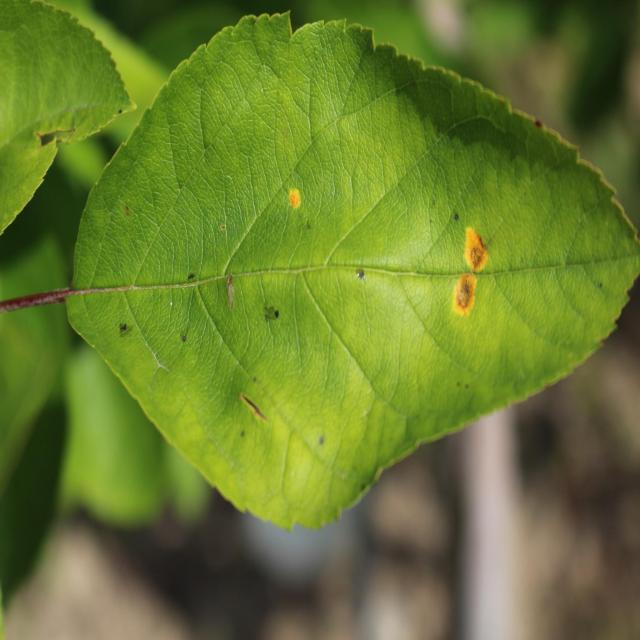Rust: (276, 157, 311, 230), (448, 269, 484, 319), (461, 215, 491, 270)
